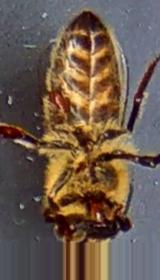varroa_mite: (46, 84, 74, 114)
